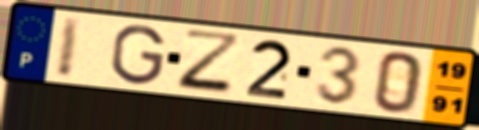0: (370, 49, 425, 115)
2: (245, 38, 294, 101)
3: (313, 44, 365, 108)
G: (108, 23, 168, 87)
I: (53, 14, 85, 79)
Z: (174, 27, 245, 98)
